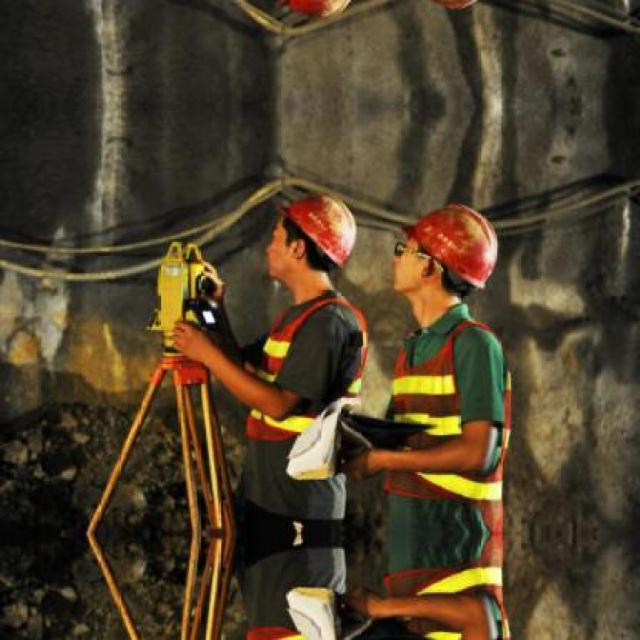Reflective-Jacket: (226, 288, 374, 522), (377, 316, 515, 508)
Safety-Helmet: (386, 196, 514, 304), (263, 184, 369, 278)
